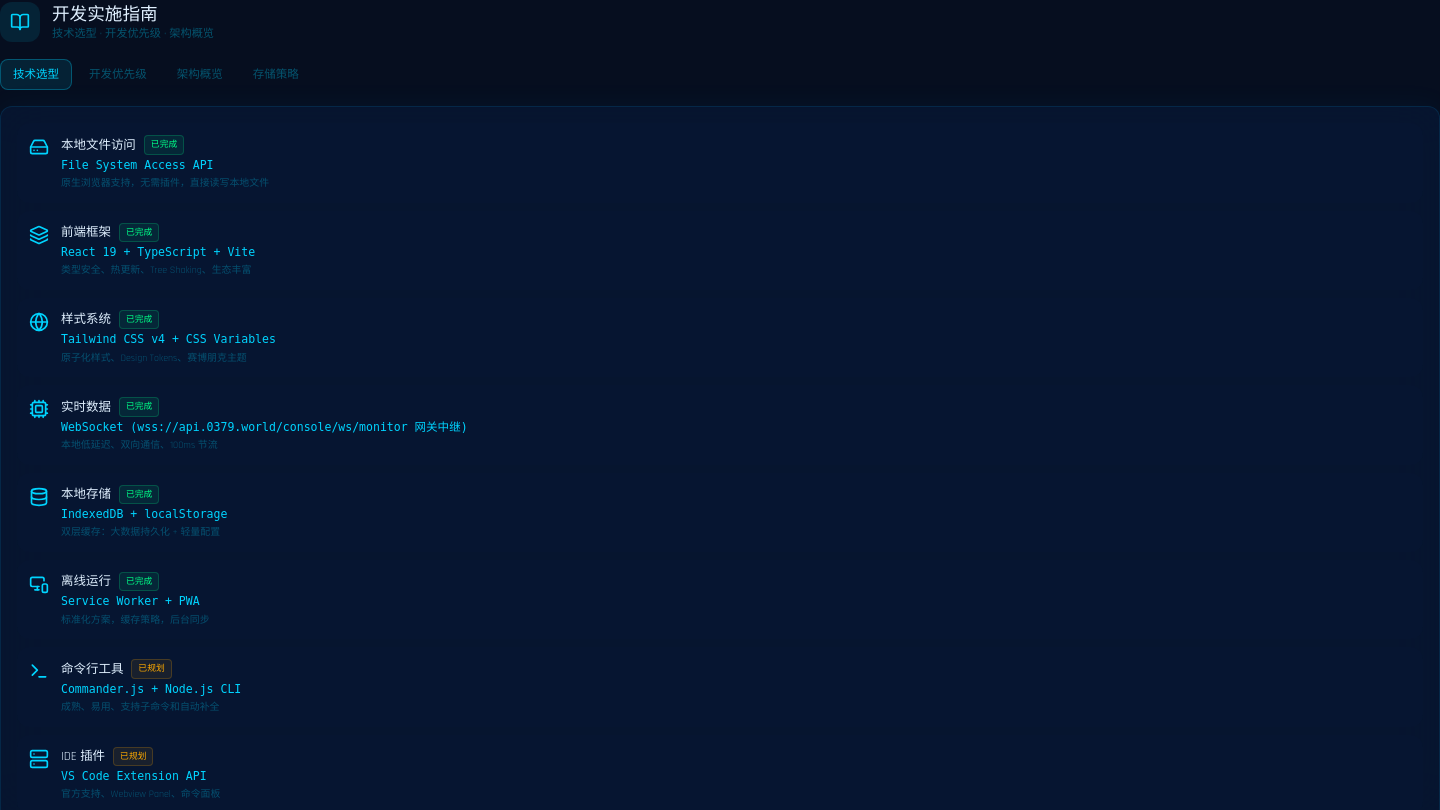
Test: DevGuidePage › Phase 1 应有 3 个任务项
The image size is (1440, 810).
Click the button with test id "devguide-tab-priority": [118, 75] box [76,59,160,90]
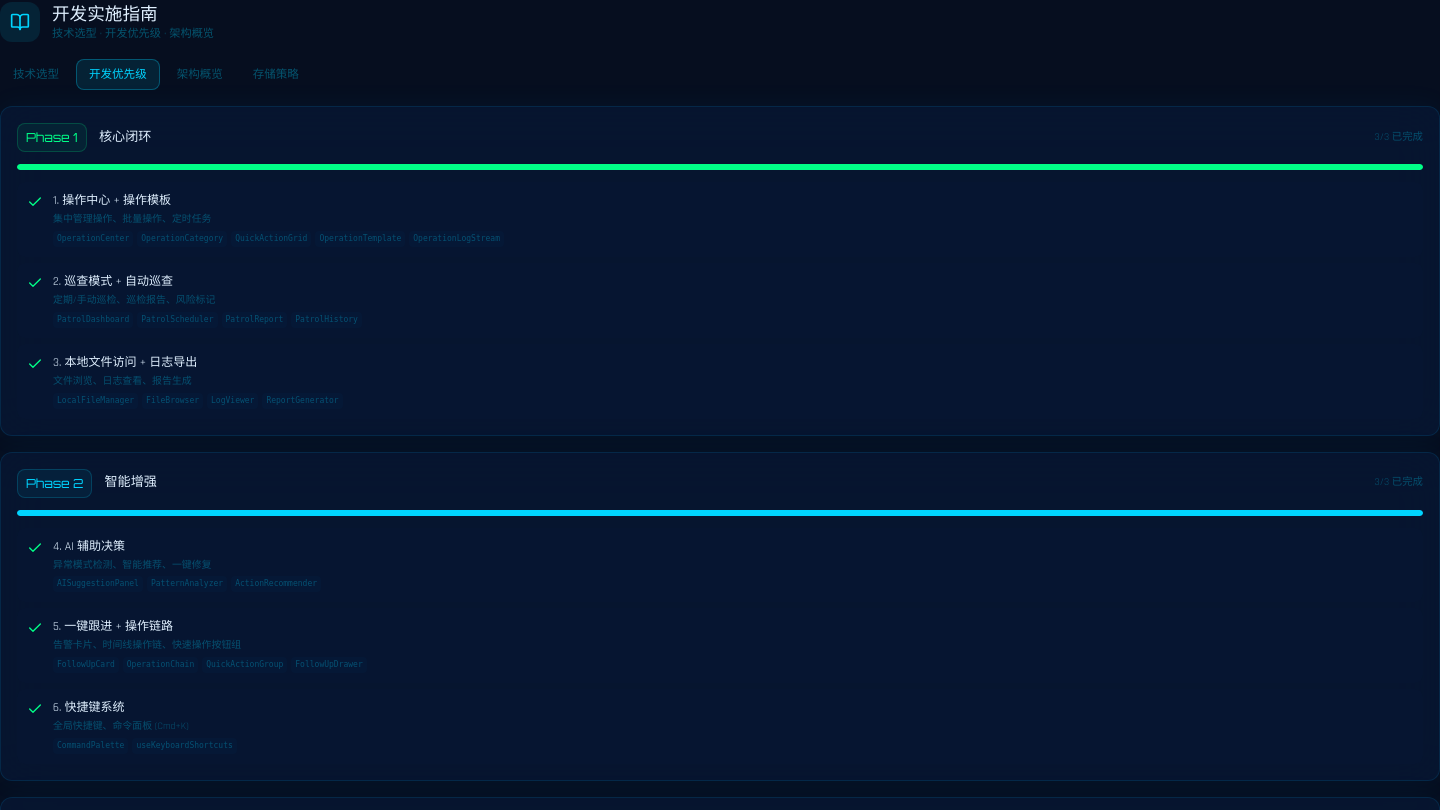
Now the element with test id "priority-item-1" is shown, box [17,182,1423,257]
Now the element with test id "priority-item-2" is shown, box [17,263,1423,338]
Now the element with test id "priority-item-3" is shown, box [17,344,1423,419]
